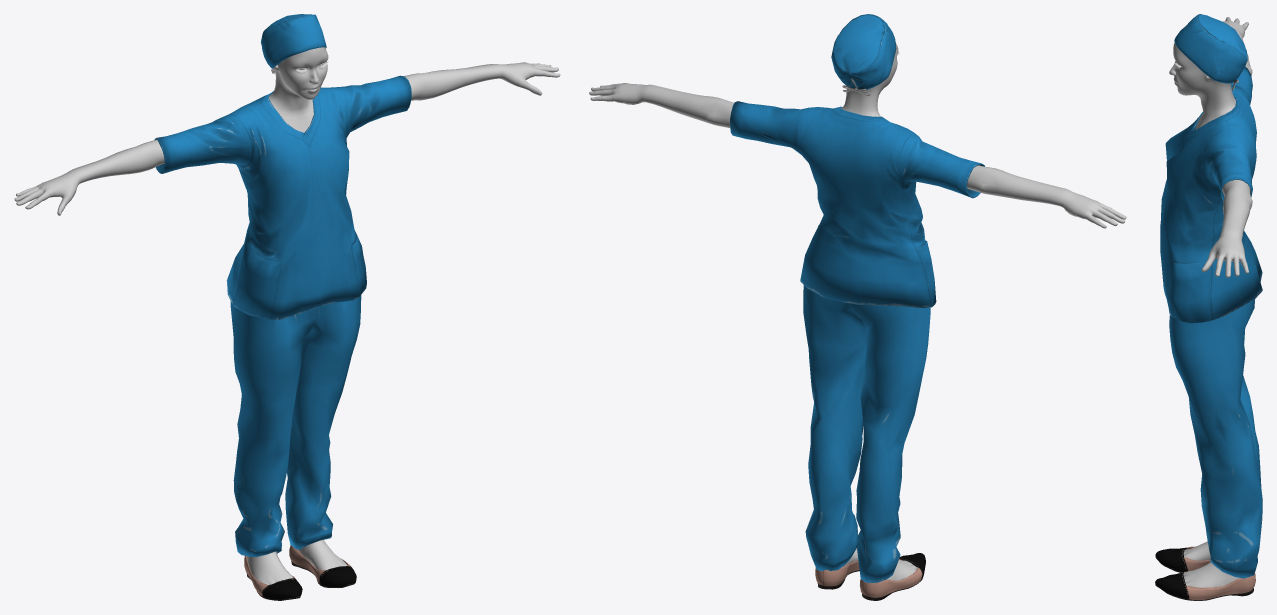
3 views of the same model, side by side, from view 1: azimuth 30°, elevation 25°; view 2: azimuth 150°, elevation 25°; view 3: azimuth 270°, elevation 25° (orthographic).
Visible parts, largest first — view 1: Tops, Bottoms, Body, Hats, Shoes; view 2: Bottoms, Tops, Body, Hats, Shoes; view 3: Bottoms, Tops, Body, Hats, Shoes.
Boxes of the visible parts, <box> form: Tops: <box>154,75,411,319</box>; Bottoms: <box>230,295,361,556</box>; Body: <box>14,47,560,584</box>; Hats: <box>261,14,326,73</box>; Shoes: <box>244,545,356,600</box>; Bottoms: <box>803,285,930,582</box>; Tops: <box>730,101,984,307</box>; Body: <box>589,43,1126,581</box>; Hats: <box>831,14,896,95</box>; Shoes: <box>815,544,925,600</box>; Bottoms: <box>1169,299,1262,578</box>; Tops: <box>1160,66,1262,323</box>; Body: <box>1169,17,1252,592</box>; Hats: <box>1174,14,1247,90</box>; Shoes: <box>1155,546,1255,600</box>.
Size of the model in its own units: 179 by 180 by 31.18.
